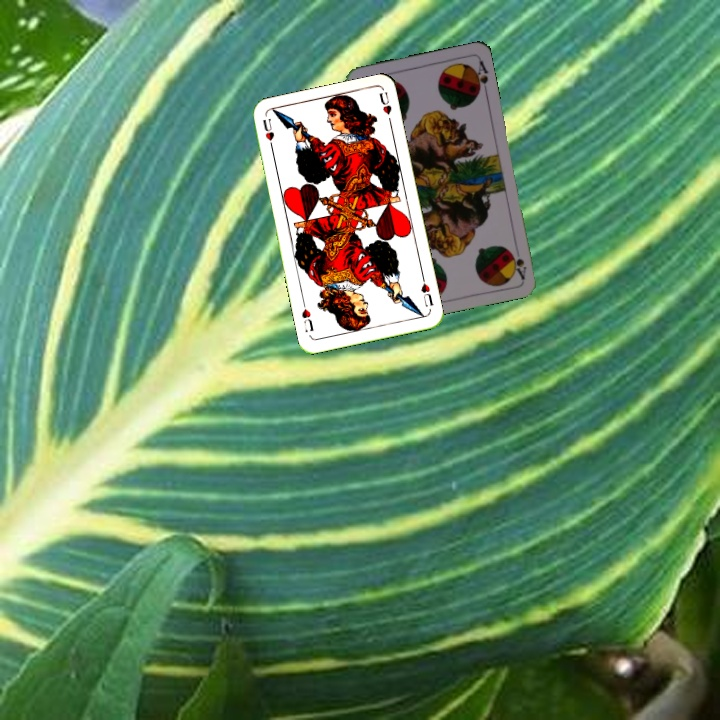HU: (258, 114, 277, 153), (417, 272, 436, 309)
SA: (507, 247, 529, 281)
